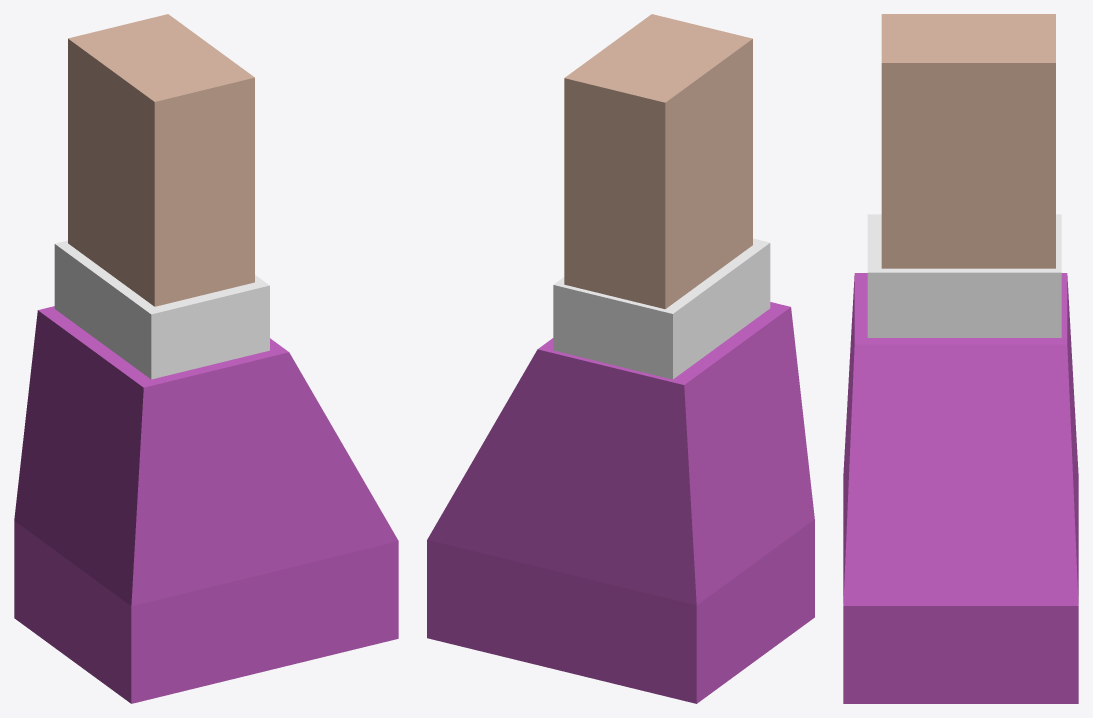
Rendered from playerLeftFeet.obj.
The picture shows the model from 3 angles, left to right: view 1: azimuth 30°, elevation 25°; view 2: azimuth 150°, elevation 25°; view 3: azimuth 270°, elevation 25°; orthographic projection.
Parts seen in each view (by area): view 1: head.016, head.014, head.015; view 2: head.016, head.014, head.015; view 3: head.016, head.014, head.015.
Part boxes in pixels (bbox=[...]): head.016: bbox=[14, 306, 398, 703]; head.014: bbox=[68, 14, 254, 306]; head.015: bbox=[54, 240, 269, 379]; head.016: bbox=[427, 302, 814, 703]; head.014: bbox=[564, 14, 752, 309]; head.015: bbox=[553, 238, 770, 379]; head.016: bbox=[843, 273, 1078, 703]; head.014: bbox=[881, 14, 1055, 268]; head.015: bbox=[867, 214, 1061, 337].
Bounding box in the file's own units: 0.6415 × 1.32 × 0.4869.
